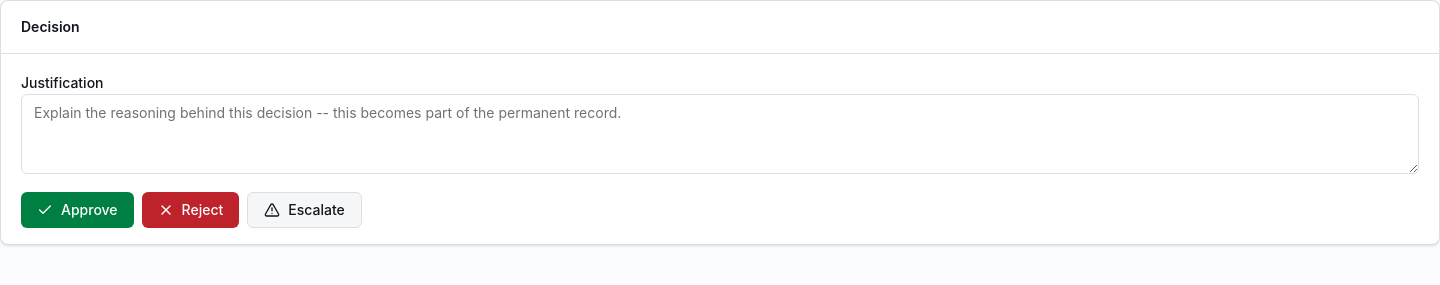
DecisionPanel › blocks submission and shows an error when justification is empty
This screenshot has width=1440, height=285.
Click the button "Approve" at point(77, 210), box x1=21 y1=192 x2=134 y2=228
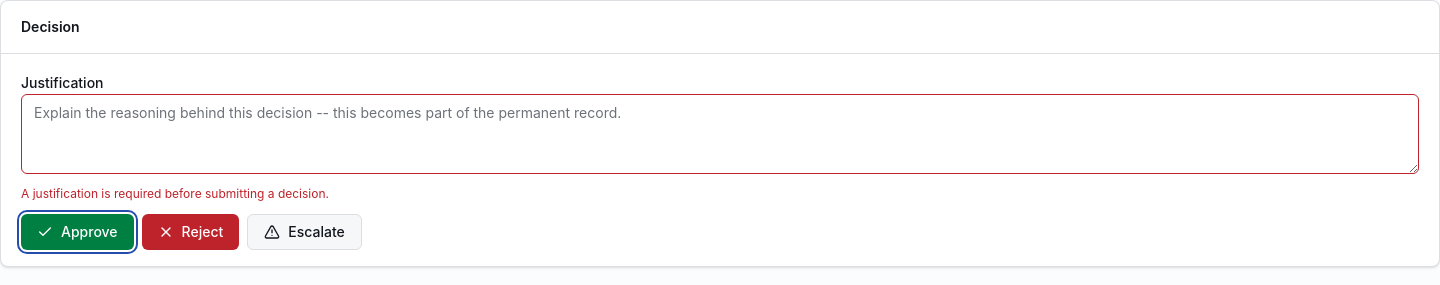
Expected: the text "A justification is required before submitting a decision." is shown, x1=21 y1=186 x2=329 y2=201
